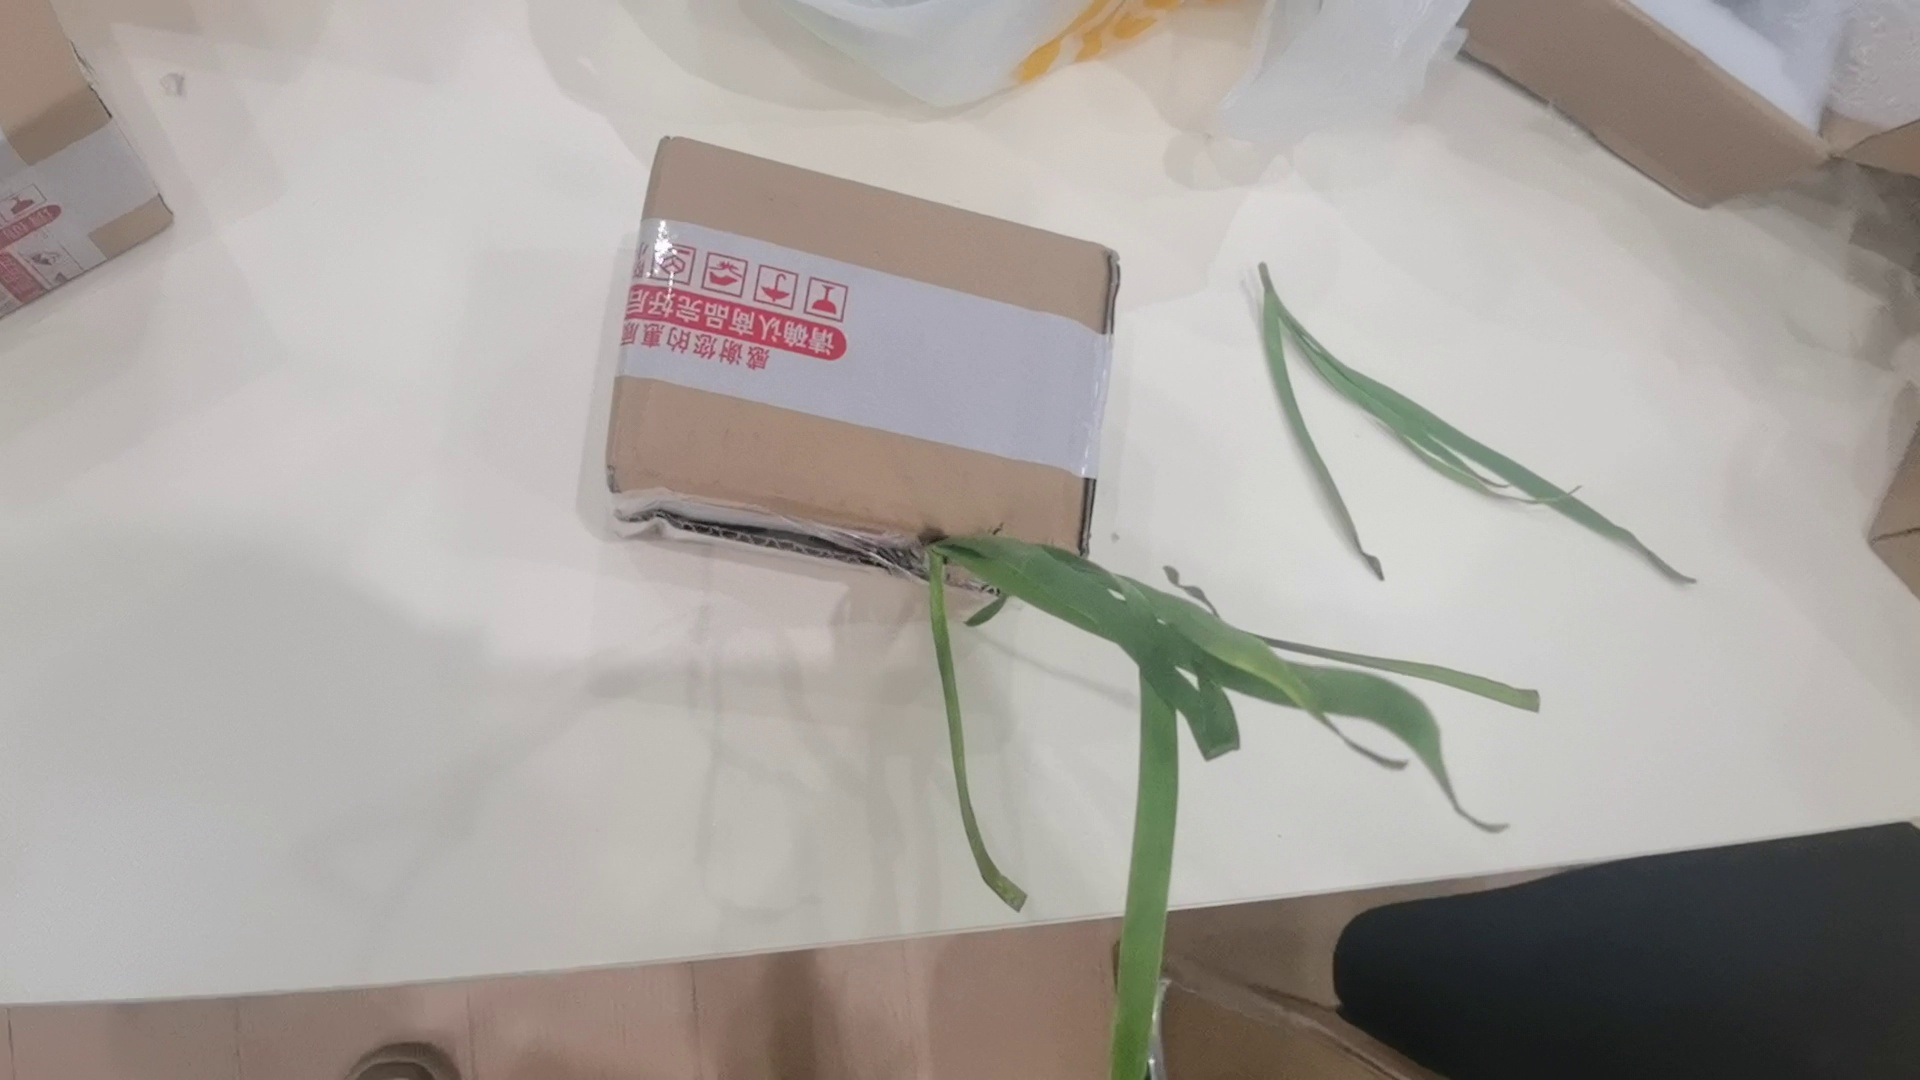chives: (916, 533, 1549, 1080), (1249, 261, 1710, 599)
